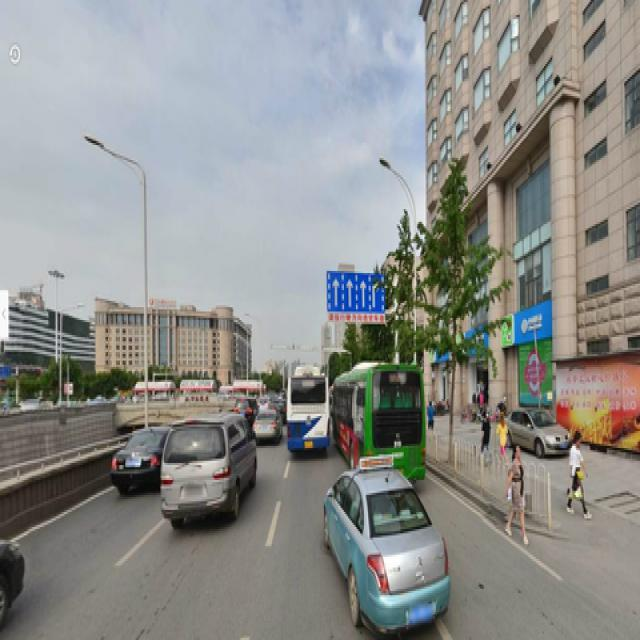gink: (427, 181, 488, 448)
